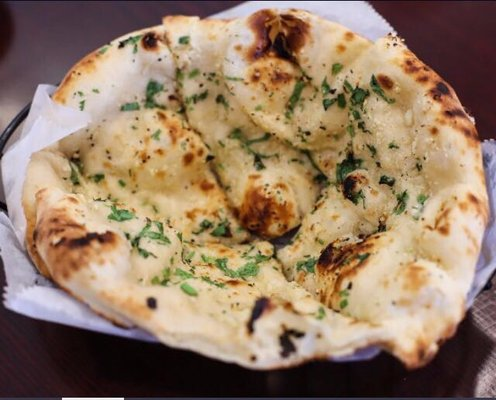sandwich: (6, 8, 495, 385)
